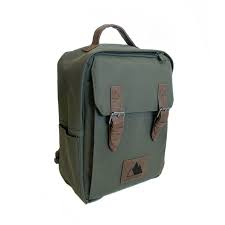backpack: (54, 23, 174, 204)
